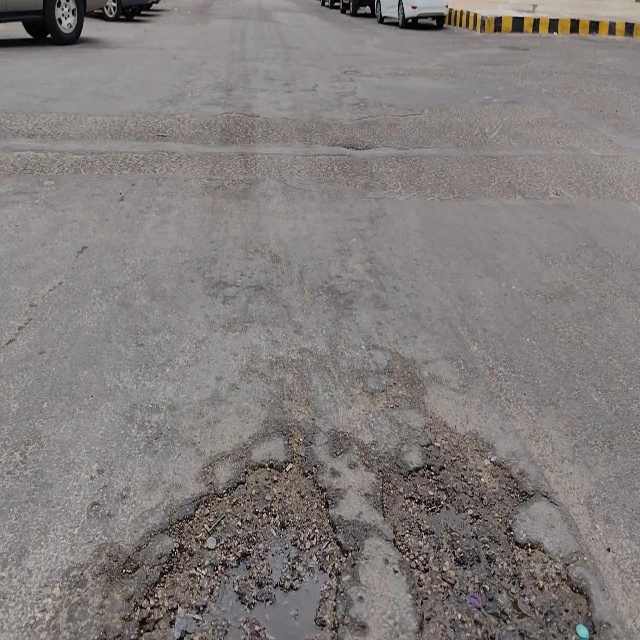pothole: (382, 423, 599, 639), (128, 449, 356, 636)
